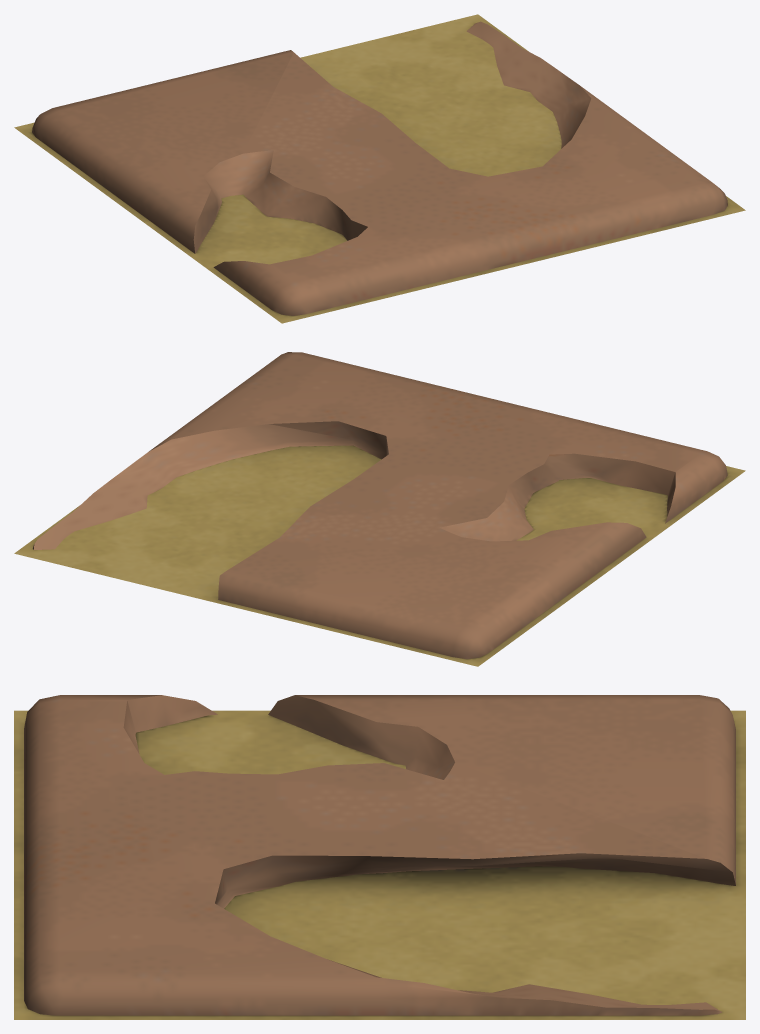
The model's file is Q-Sol_Dalle4.FBX.
The picture shows the model from 3 angles, top to bottom: view 1: azimuth 30°, elevation 25°; view 2: azimuth 150°, elevation 25°; view 3: azimuth 270°, elevation 25°; orthographic projection. The views are drawn at different scales.
Parts seen in each view (by area): view 1: Sol_Dalle4; view 2: Sol_Dalle4; view 3: Sol_Dalle4.
Part boxes in pixels (left/top/right/bottom): Sol_Dalle4: left=14, top=14, right=745, bottom=323; Sol_Dalle4: left=14, top=352, right=745, bottom=666; Sol_Dalle4: left=14, top=695, right=745, bottom=1019.
Bounding box in the file's own units: 2 × 0.1 × 2.
